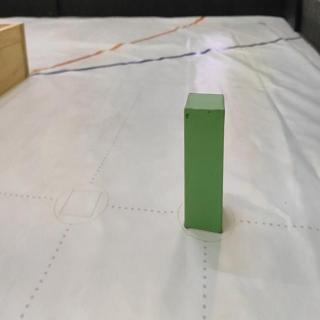greenbox: (182, 91, 223, 235)
